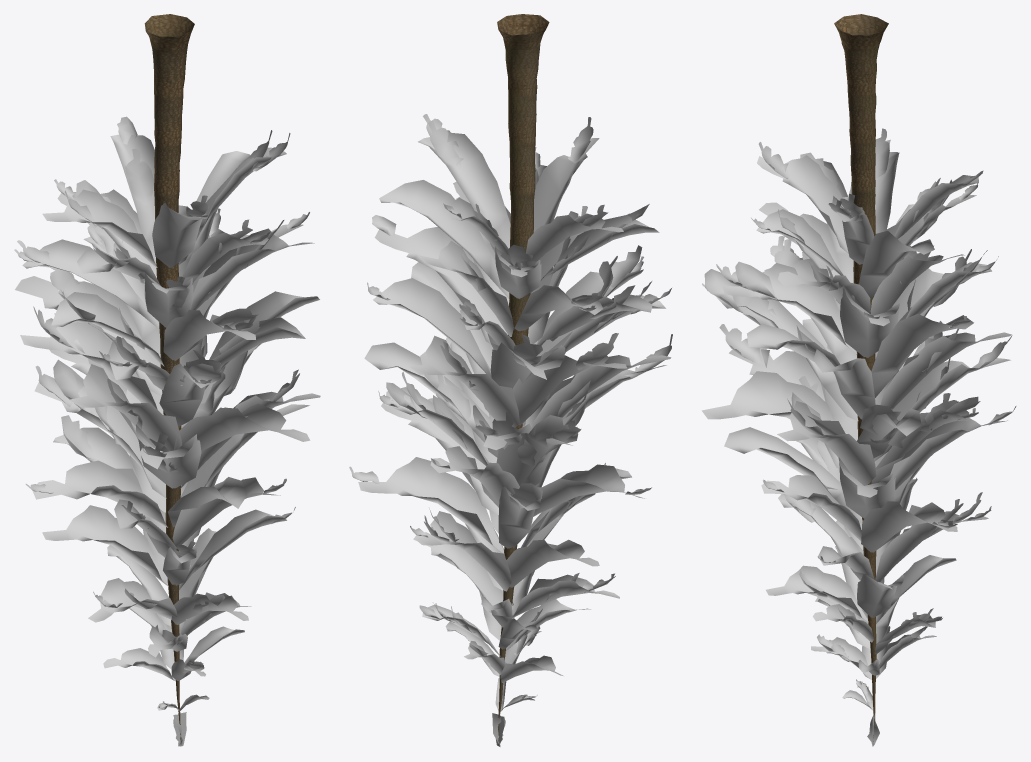
Rendered from BIO_VEG_BIG_SpruceTree_01A.fbx.
The picture shows the model from 3 angles, left to right: view 1: azimuth 30°, elevation 25°; view 2: azimuth 150°, elevation 25°; view 3: azimuth 270°, elevation 25°; orthographic projection. The views are drawn at different scales.
Parts seen in each view (by area): view 1: BIO_VEG_BIG_SpruceTree_01A; view 2: BIO_VEG_BIG_SpruceTree_01A; view 3: BIO_VEG_BIG_SpruceTree_01A.
Boxes of the visible parts, <box> form: BIO_VEG_BIG_SpruceTree_01A: <box>14,14,320,746</box>; BIO_VEG_BIG_SpruceTree_01A: <box>349,14,672,746</box>; BIO_VEG_BIG_SpruceTree_01A: <box>701,14,1016,746</box>.
Size of the model in its own units: 636 by 1568 by 627.
